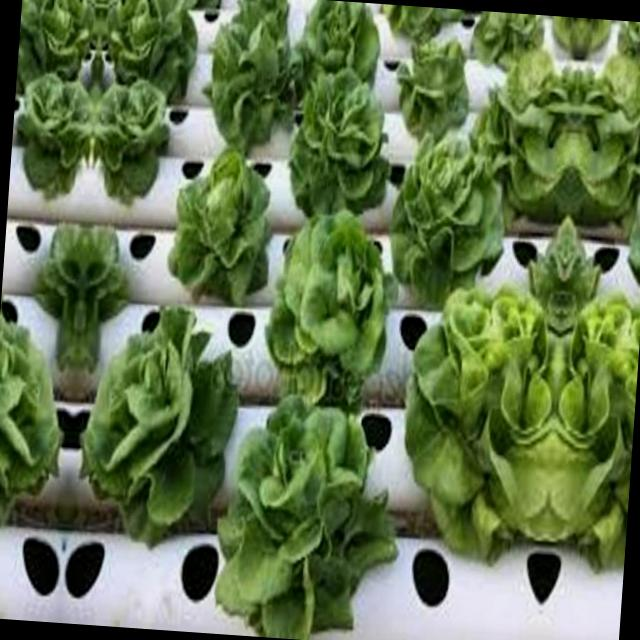healthy: (206, 388, 406, 640), (394, 278, 563, 561), (72, 293, 235, 550), (543, 288, 640, 566), (264, 206, 392, 389), (382, 126, 509, 304), (476, 39, 580, 229), (164, 148, 278, 314), (284, 59, 399, 221), (0, 287, 73, 538), (196, 0, 294, 155), (568, 45, 640, 234), (88, 72, 174, 212), (10, 67, 96, 207), (382, 26, 475, 146), (97, 0, 203, 105), (286, 0, 381, 109), (15, 0, 101, 97), (77, 216, 128, 368), (35, 213, 86, 365), (516, 202, 568, 338), (560, 206, 612, 342), (465, 10, 547, 71), (382, 5, 459, 50), (625, 143, 640, 314), (612, 20, 640, 79)
